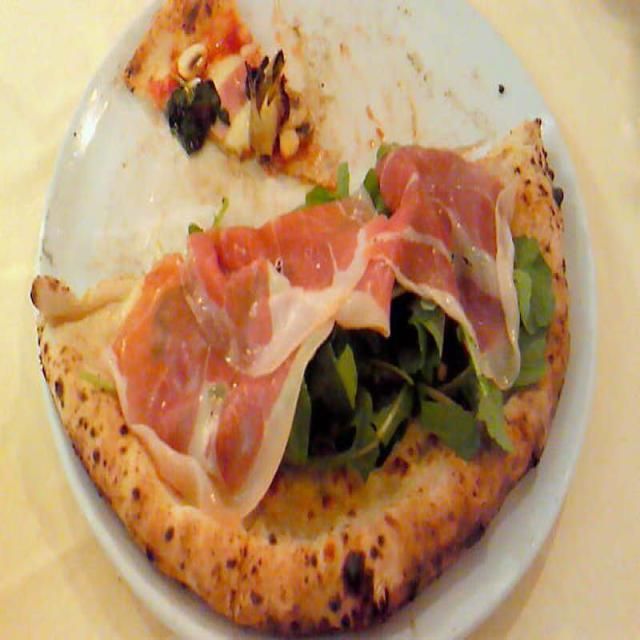Pizza: (25, 0, 602, 640)
